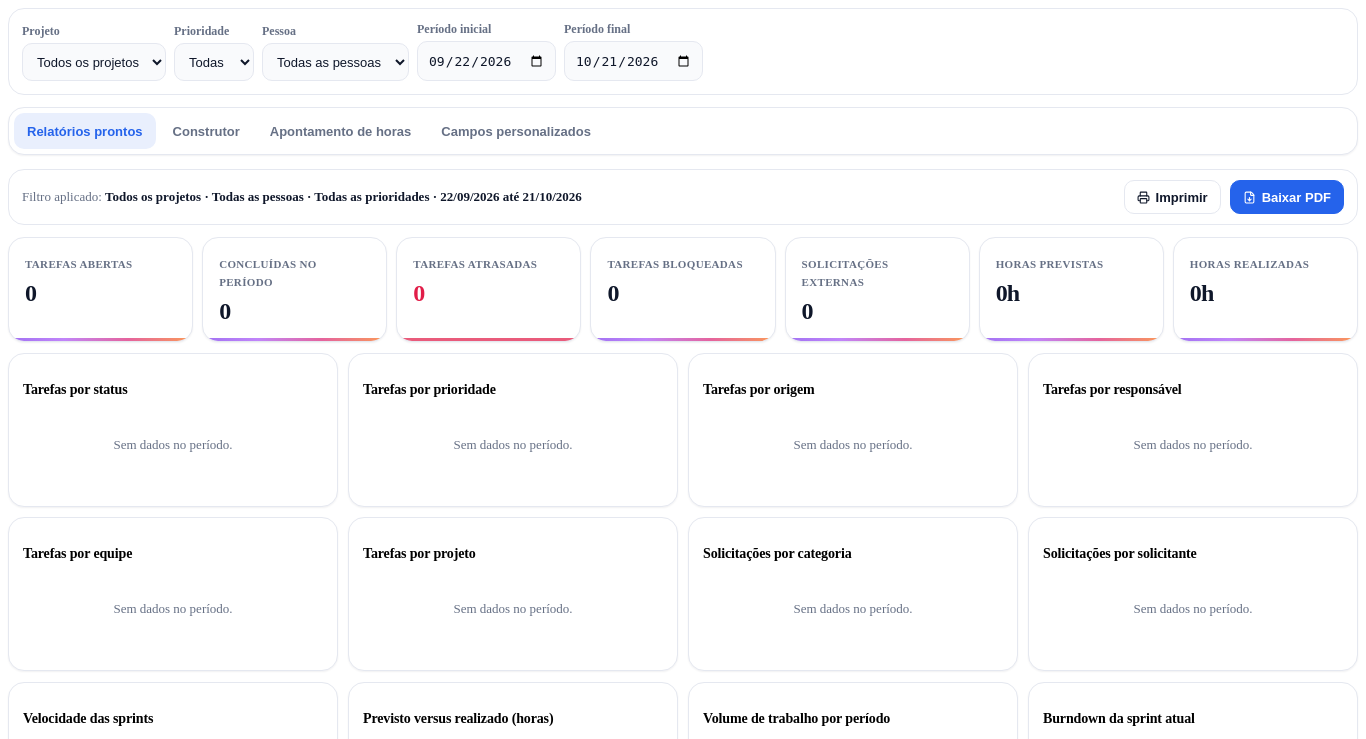
Scenario: relatório por pessoa › diz de quem é o relatório no resumo que vai para o PDF
Select "Ana Souza" in the dropdown labelled "Pessoa" at (336, 62), box [262,43,409,81]
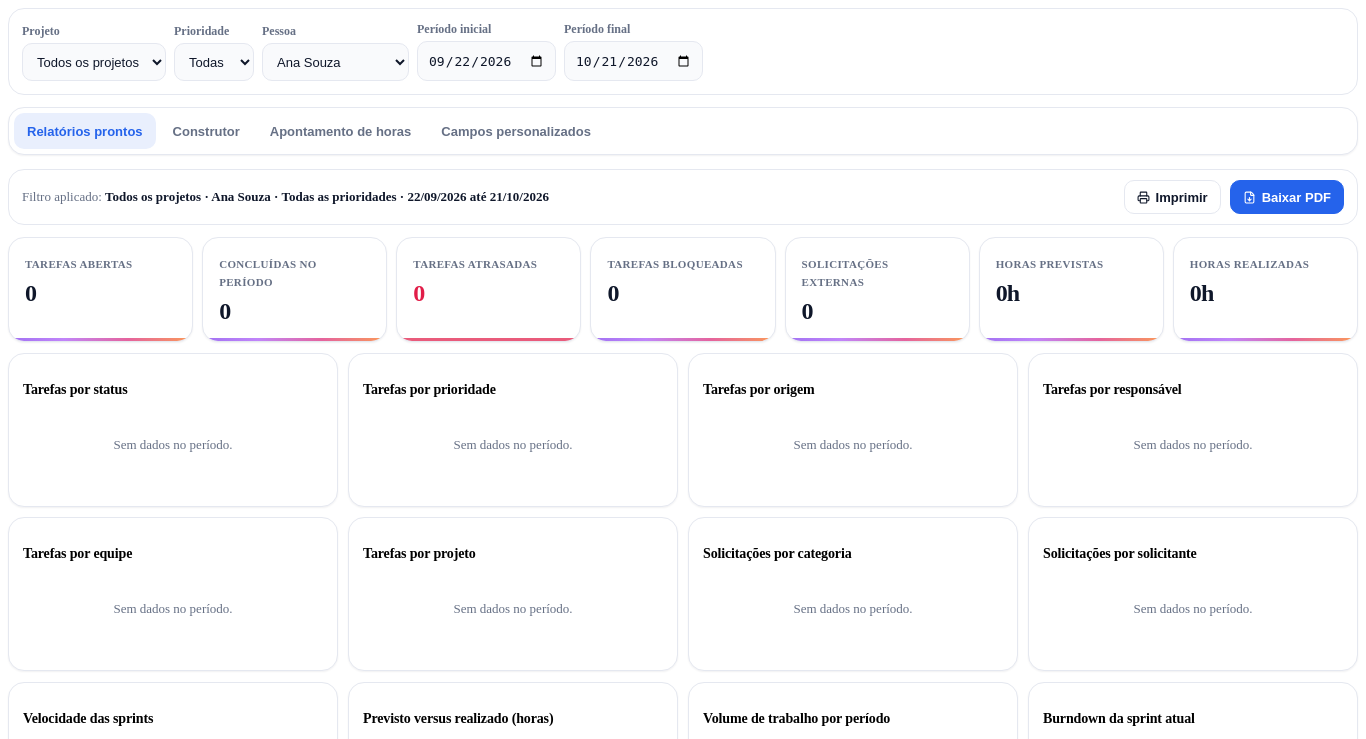
Now the text "Todos os projetos · Ana Souza ·" is shown, box [105,189,549,204]
